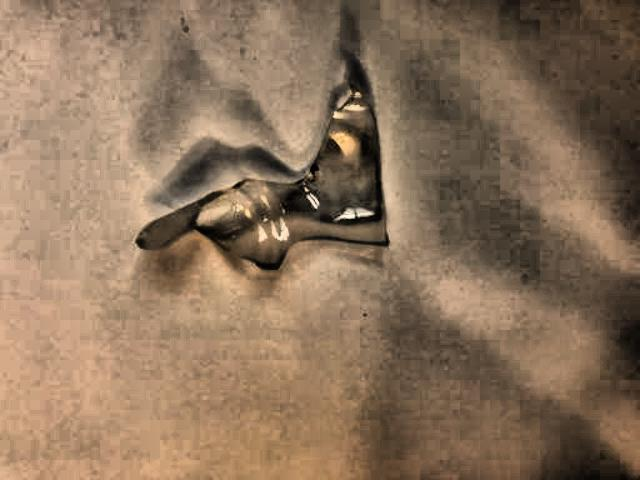Almennt: (134, 55, 410, 302)
